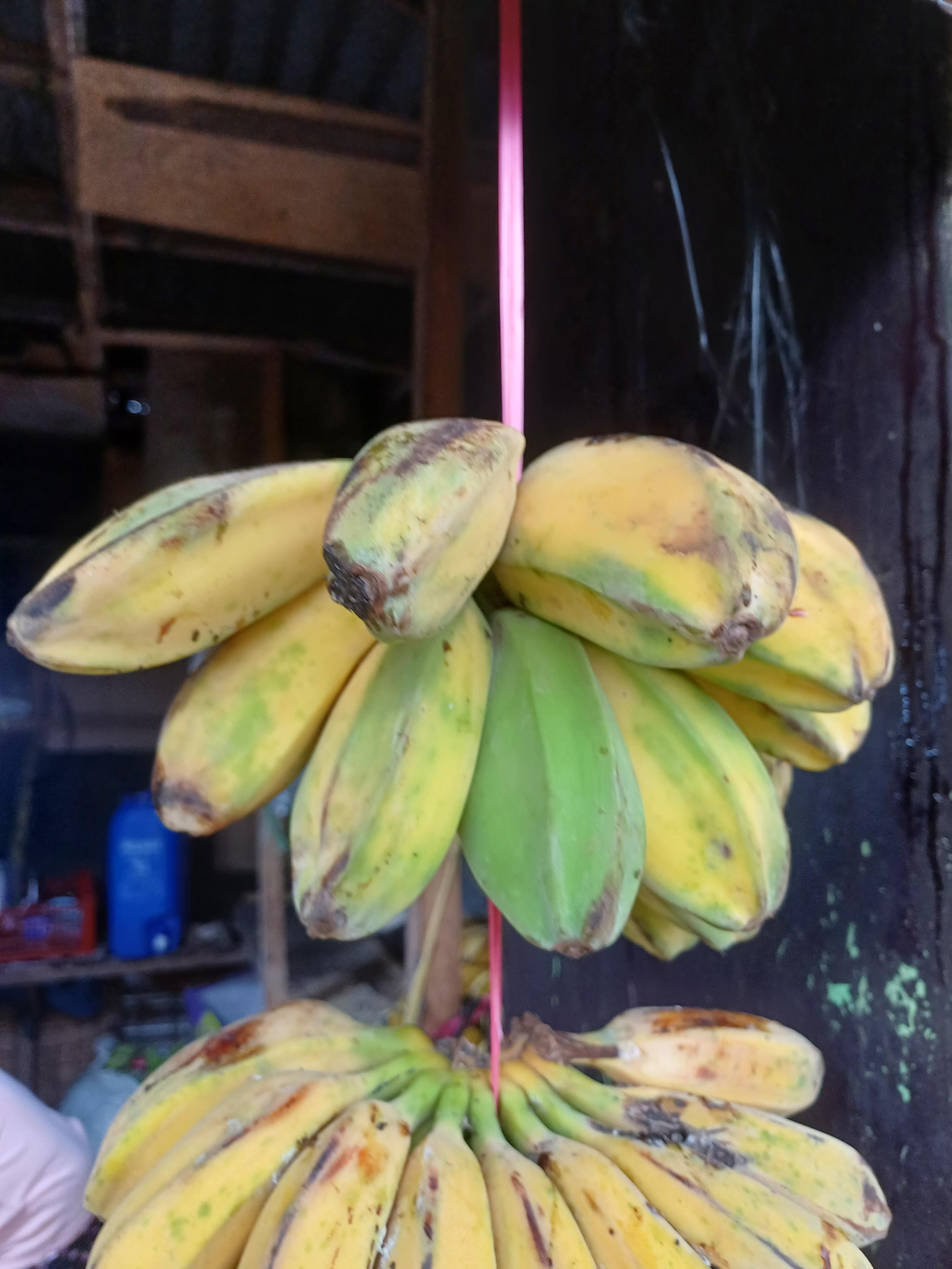ripe: (83, 1001, 893, 1269)
underripe: (8, 419, 894, 958)
